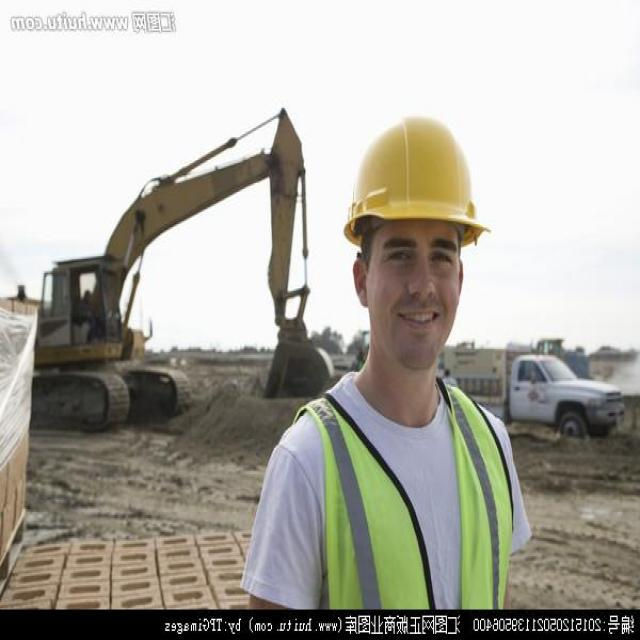reflective_jacket: (289, 370, 513, 609)
safety_helmet: (341, 106, 490, 251)
